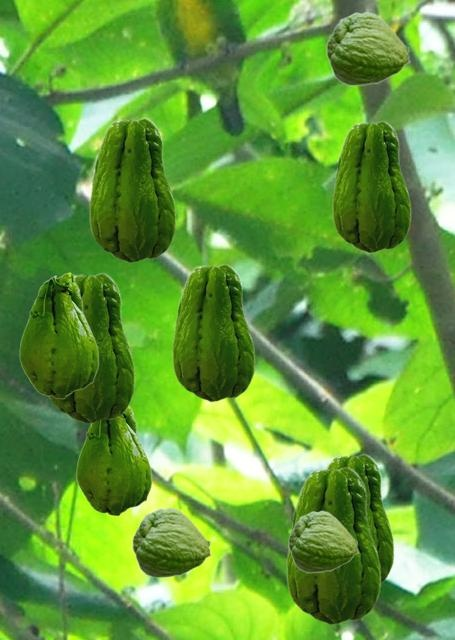sayote: (286, 466, 380, 624), (48, 272, 134, 423), (89, 117, 175, 262), (172, 263, 254, 401), (332, 120, 410, 252), (19, 272, 98, 398), (326, 453, 393, 585), (76, 405, 151, 515), (326, 11, 410, 85), (132, 507, 211, 577), (288, 510, 358, 572)
